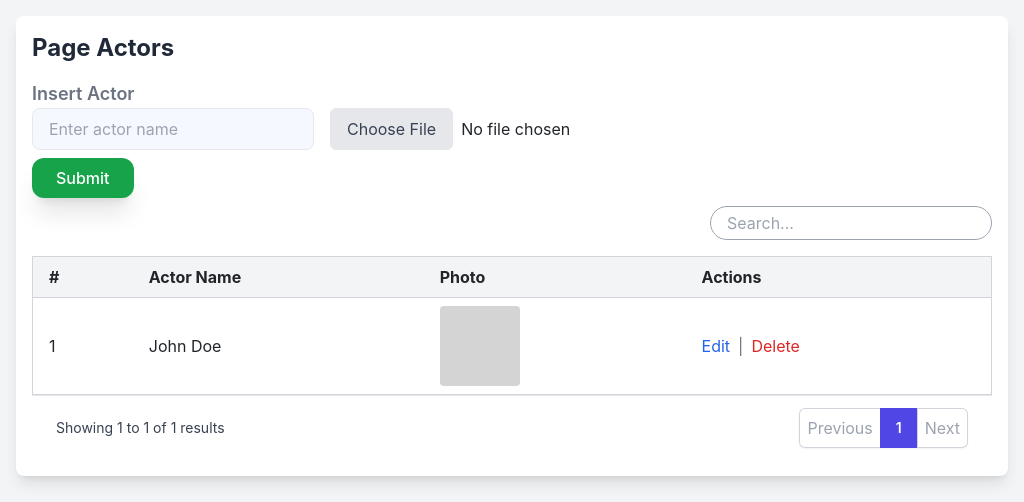
it: Actors Component › should handle deleting an actor
Expected: the text "John Doe" is shown, [133,298,424,394]
Note: Simulate delete action
Click the link "Delete".
click(776, 346)  # box [751,336,800,356]
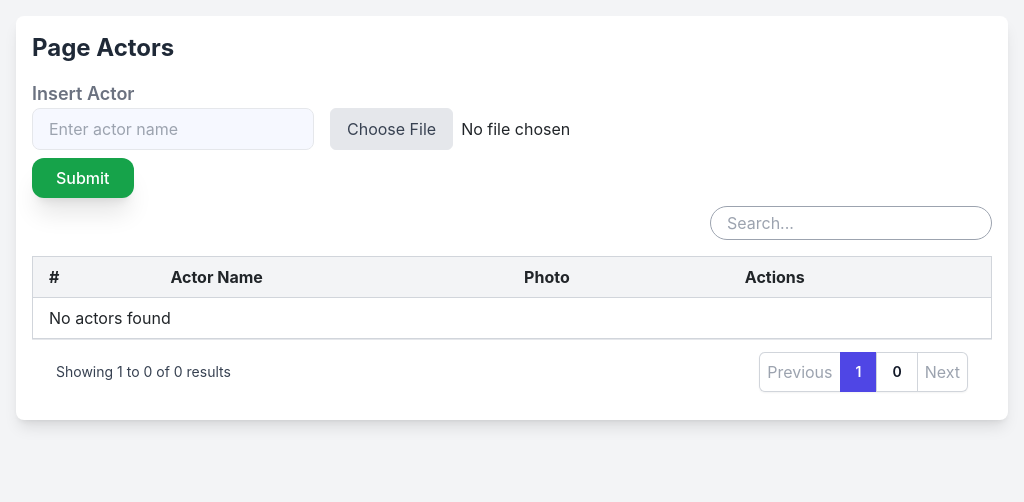
Expected: the text "John Doe" is gone
